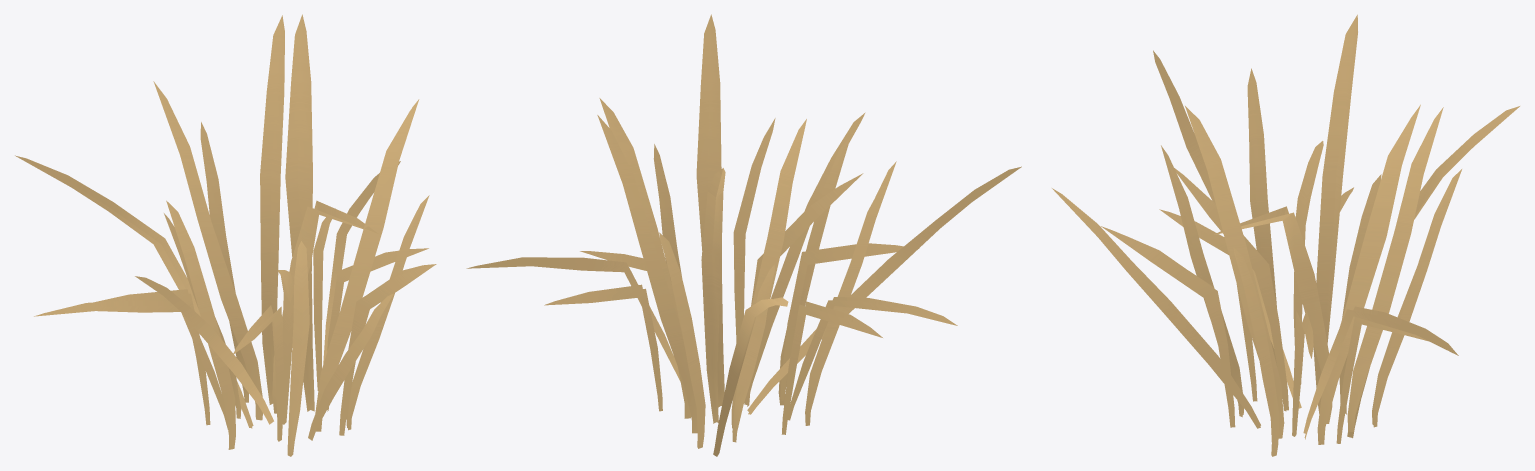
The model's file is DesertGrass_Wispy_Short.obj.
3 views of the same model, side by side, from view 1: azimuth 30°, elevation 25°; view 2: azimuth 150°, elevation 25°; view 3: azimuth 270°, elevation 25° (orthographic). The views are drawn at different scales.
Visible parts, largest first — view 1: DesertGrass_Wispy_Short; view 2: DesertGrass_Wispy_Short; view 3: DesertGrass_Wispy_Short.
Part boxes in pixels (left/top/right/bottom): DesertGrass_Wispy_Short: left=15, top=14, right=436, bottom=456; DesertGrass_Wispy_Short: left=466, top=14, right=1021, bottom=456; DesertGrass_Wispy_Short: left=1052, top=14, right=1519, bottom=456.
Size of the model in its own units: 1.32 by 1.07 by 1.21.
1 material, 1 textured.
